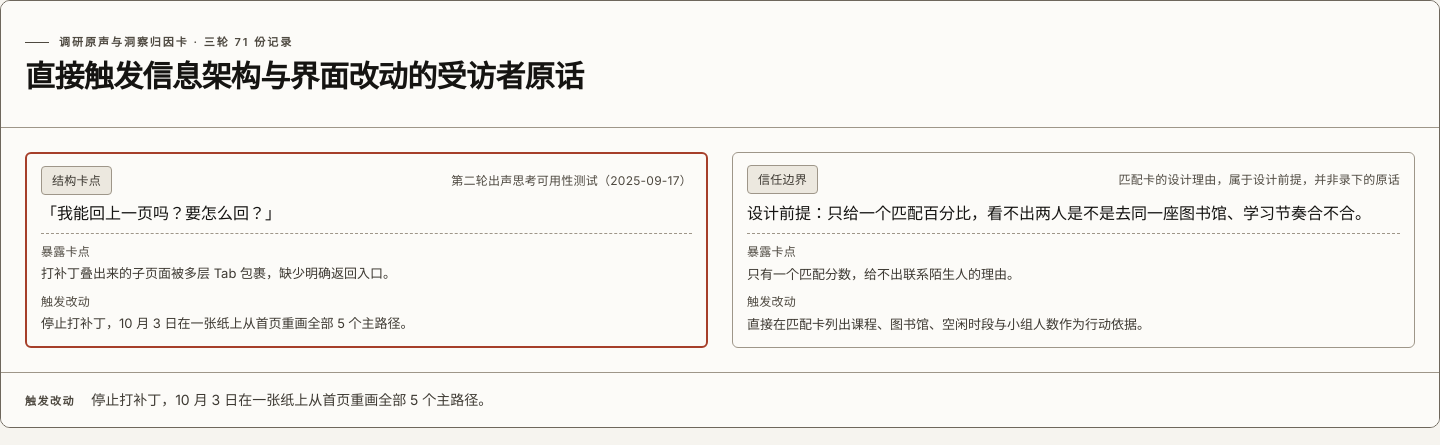
it: Design Process Artifacts › ResearchQuoteDeck shows every card and updates the decision callout on card selection
Expected: the message shows "10 月 3 日", [91, 391, 492, 408]
Expected: the text "「我能回上一页吗？要怎么回？」" is shown, [41, 204, 281, 224]
Click the text "设计前提：只给一个匹配百分比，看不出两人是不是去同一座图书馆、学习节奏合不合。". click: (1074, 214)
box: [747, 201, 1400, 227]
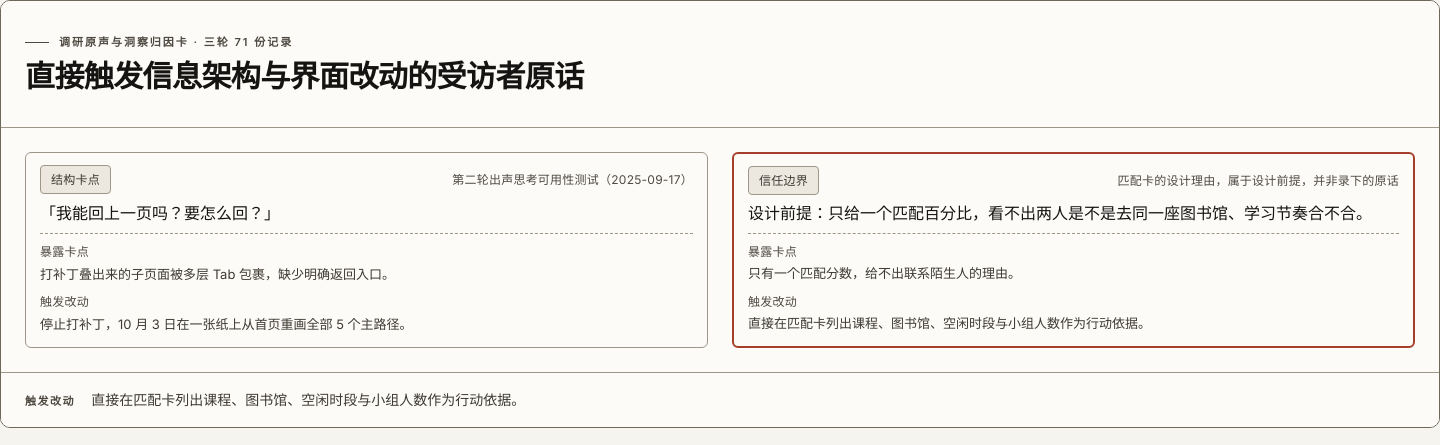
Now the message shows "直接在匹配卡列出课程", box [91, 391, 525, 408]
